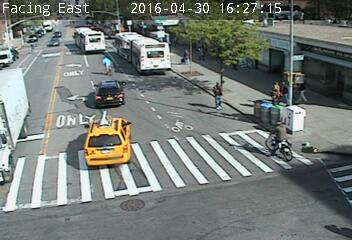neg: (261, 115, 295, 160), (97, 51, 117, 78), (26, 40, 38, 56)
pos: (205, 79, 230, 112), (265, 79, 286, 106), (277, 78, 295, 102), (294, 80, 311, 103), (179, 47, 193, 65)
